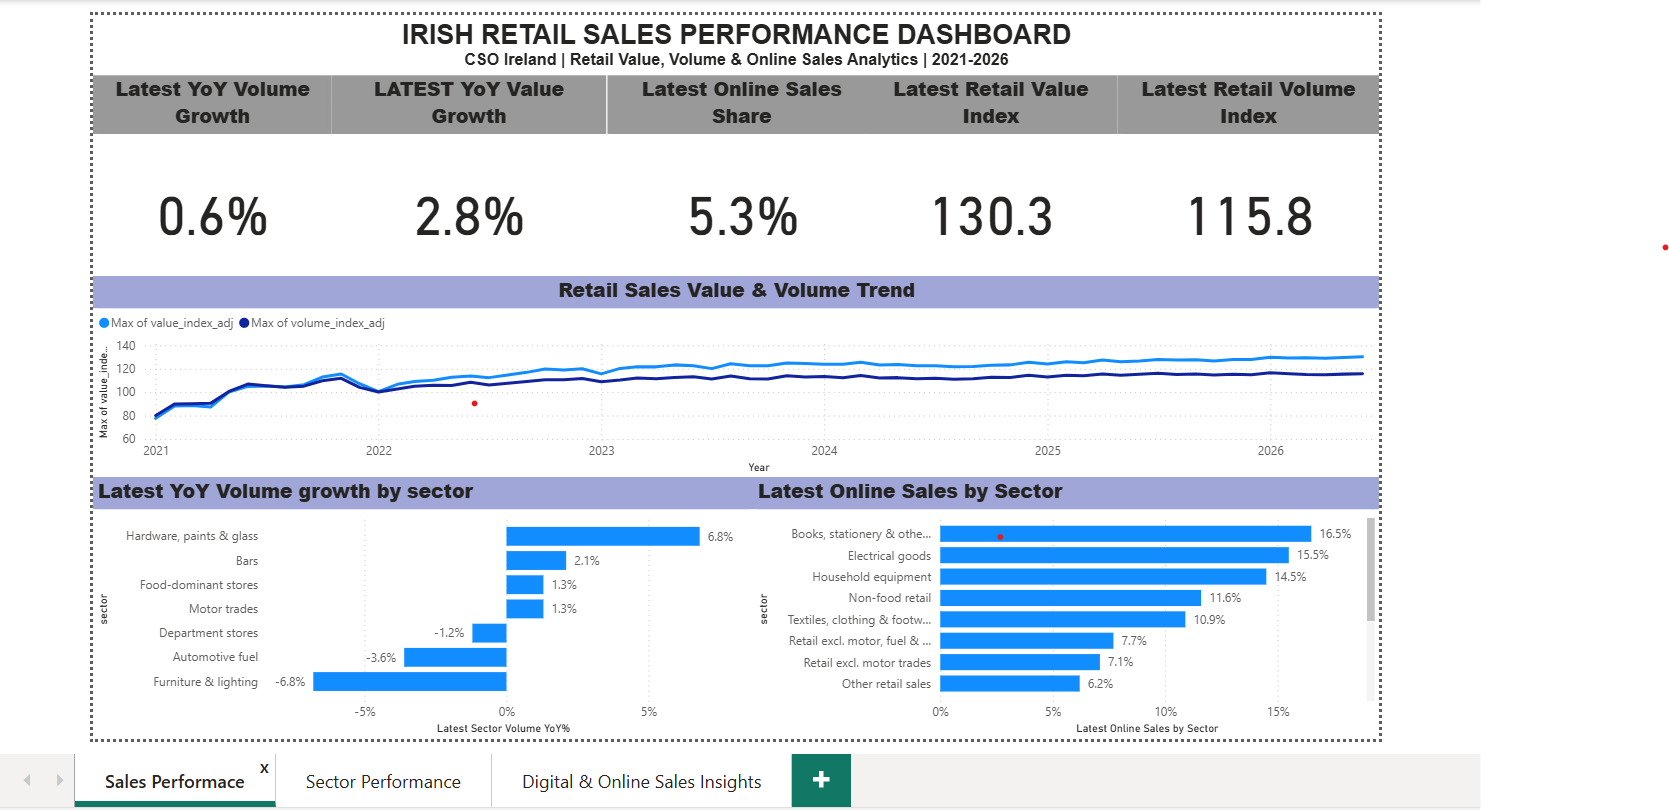

The dashboard page shown, as its layout file describes it:
{"tool":"powerbi","page":{"name":"Sales Performace","canvas":[1280,720],"ordinal":0},"visuals":[{"type":"card","title":"Latest YoY Volume Growth","fields":{"Values":["vw_dashboard.Latest Volume YoY%"]},"box":[0,59.9,238,212.1],"z":0},{"type":"card","title":"LATEST YoY Value Growth","fields":{"Values":["vw_dashboard.Latest Value YoY%"]},"box":[238,59.9,273.6,212.1],"z":1000},{"type":"card","title":"Latest Online Sales Share","fields":{"Values":["vw_dashboard.Latest Online Sales %"]},"box":[511.7,59.9,267.2,212.1],"z":2000},{"type":"card","title":"Latest Retail Value Index","fields":{"Values":["vw_dashboard.Latest Value Index"]},"box":[767.5,59.9,252.6,212.1],"z":3000},{"type":"card","title":"Latest Retail Volume Index","fields":{"Values":["vw_dashboard.Latest Volume Index"]},"box":[1020.1,59.9,260.7,212.1],"z":4000},{"type":"lineChart","title":"Retail Sales Value & Volume Trend","fields":{"Category":["vw_dashboard.month_start.Variation.Date Hierarchy.Year","vw_dashboard.month_start.Variation.Date Hierarchy.Quarter","vw_dashboard.month_start.Variation.Date Hierarchy.Month","vw_dashboard.month_start.Variation.Date Hierarchy.Day"],"Y":["Max(vw_dashboard.value_index_adj)","Max(vw_dashboard.volume_index_adj)"]},"box":[0,259.1,1280.8,200.8],"z":5000},{"type":"barChart","title":"Latest YoY Volume growth by sector","fields":{"Category":["vw_dashboard.sector"],"Y":["vw_dashboard.Latest Sector Volume YoY%"]},"box":[0,459.9,657.4,260.7],"z":6000},{"type":"clusteredBarChart","title":"Latest Online Sales by Sector","fields":{"Y":["vw_dashboard.Latest Online Sales by Sector"],"Category":["vw_dashboard.sector"]},"box":[657.4,459.9,623.4,260.7],"z":7000},{"type":"textbox","box":[0,0,1280.8,59.9],"z":7001}]}

Visuals, with their boxes on the page's 1280x720 design canvas (x1, y1, x2, y2). These are canvas units, not pixel positions in the 1669x810 screenshot, which may show the page scaled, cropped or inside an application window:
"Latest YoY Volume Growth" card: pyautogui.locateOnScreen(0, 60, 238, 272)
"LATEST YoY Value Growth" card: pyautogui.locateOnScreen(238, 60, 512, 272)
"Latest Online Sales Share" card: pyautogui.locateOnScreen(512, 60, 779, 272)
"Latest Retail Value Index" card: pyautogui.locateOnScreen(768, 60, 1020, 272)
"Latest Retail Volume Index" card: pyautogui.locateOnScreen(1020, 60, 1281, 272)
"Retail Sales Value & Volume Trend" lineChart: pyautogui.locateOnScreen(0, 259, 1281, 460)
"Latest YoY Volume growth by sector" barChart: pyautogui.locateOnScreen(0, 460, 657, 721)
"Latest Online Sales by Sector" clusteredBarChart: pyautogui.locateOnScreen(657, 460, 1281, 721)
textbox: pyautogui.locateOnScreen(0, 0, 1281, 60)
